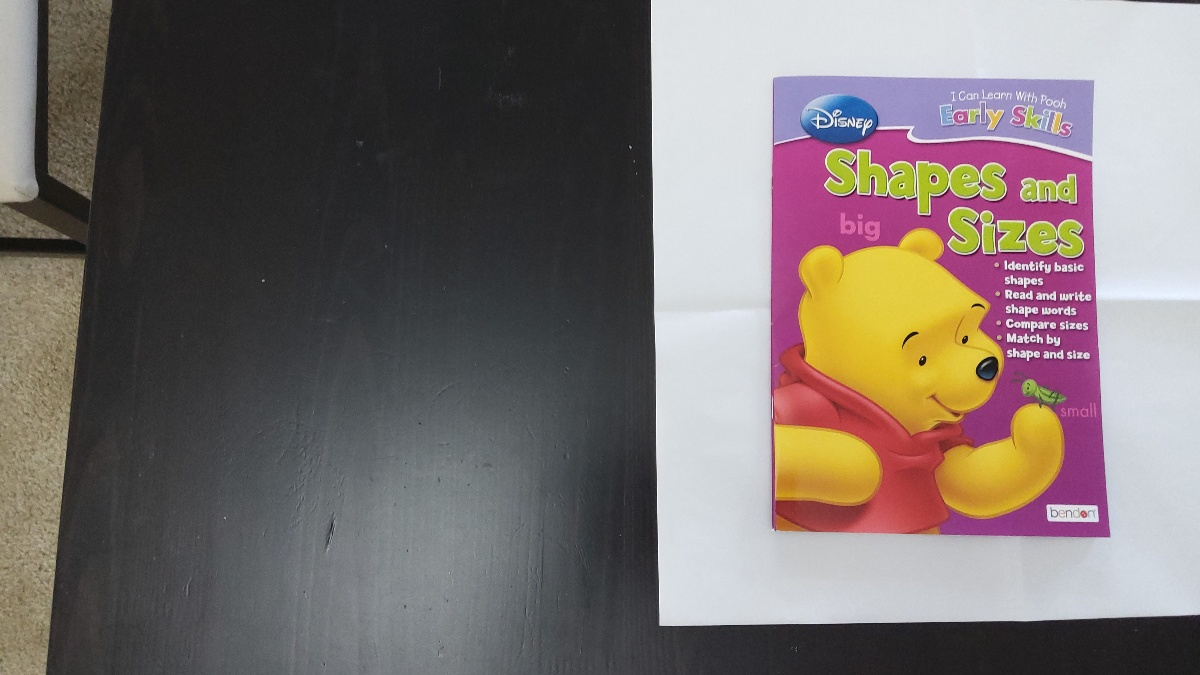book: (776, 79, 1102, 540)
